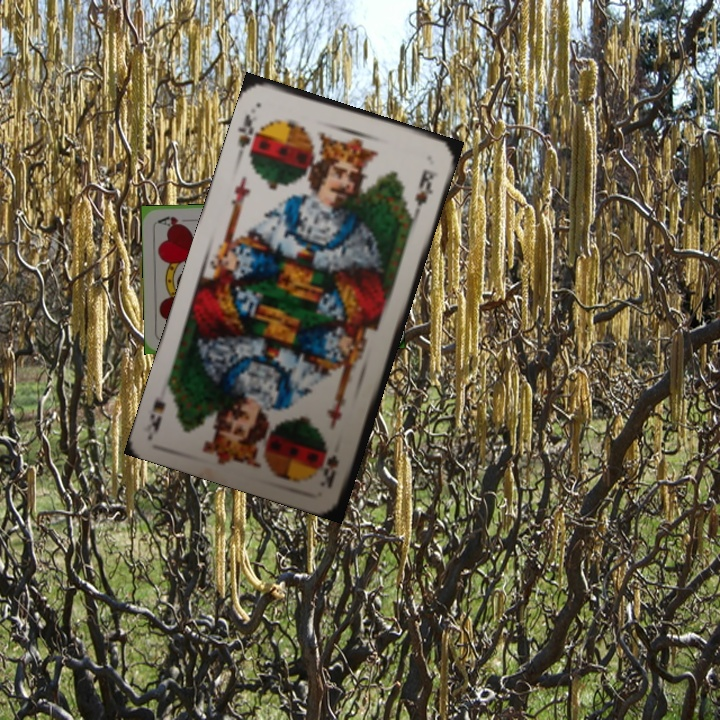SK: (234, 109, 265, 162), (316, 450, 342, 491)
